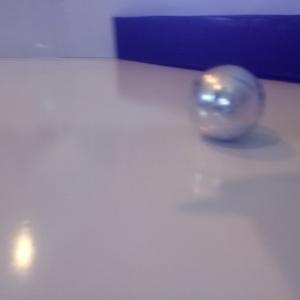zone: (114, 15, 300, 83)
